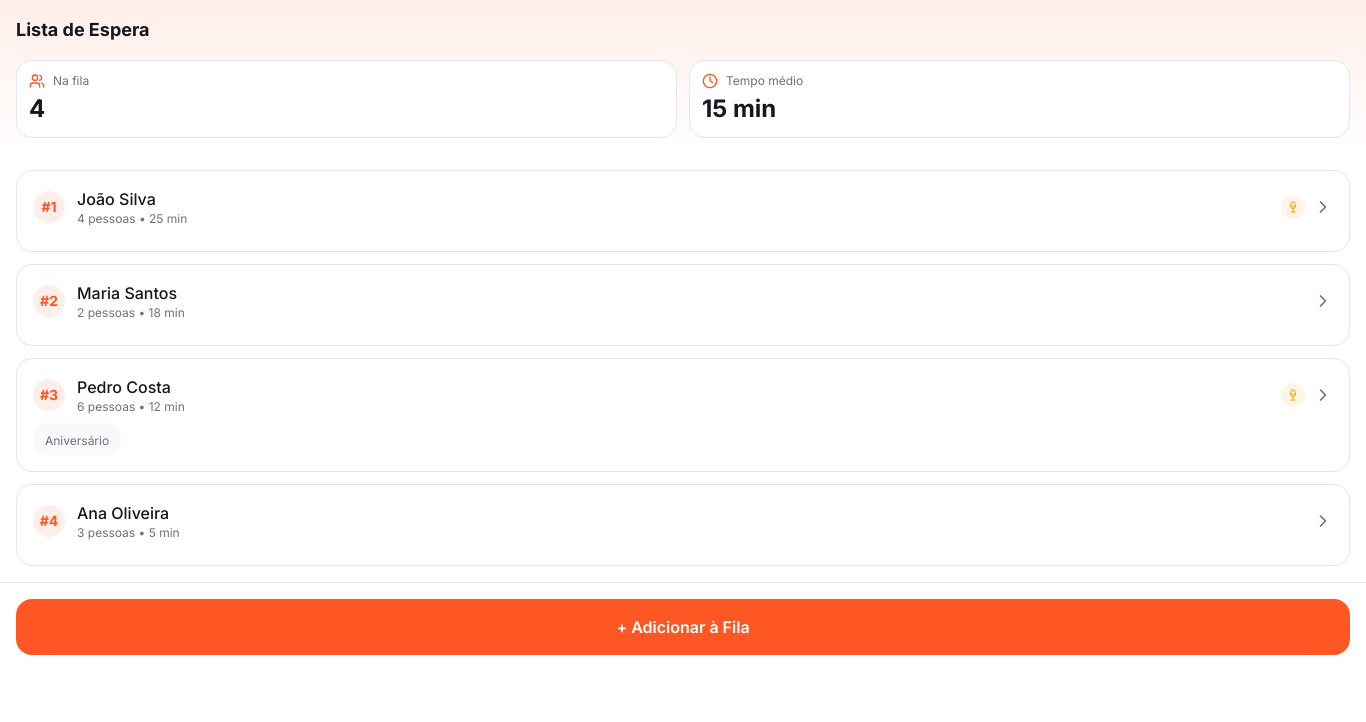
Test: WaitlistManagementScreenV2 › should remove customer from waitlist when remove is clicked
# Click on first customer to expand
Click the button "#1 João Silva 4 pessoas • 25 min": [49, 207] box [17,171,1349,251]
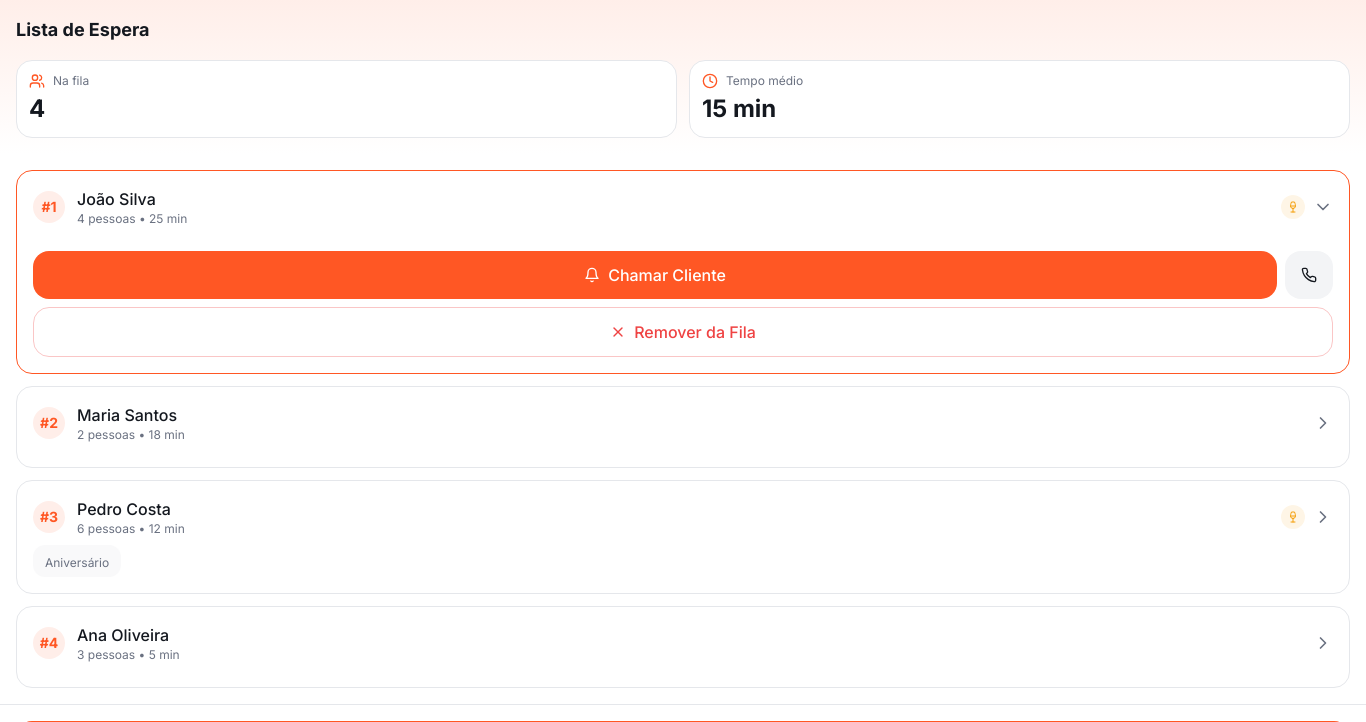
# Click remove
Click the button "Remover da Fila": [683, 332] box [33,307,1333,357]
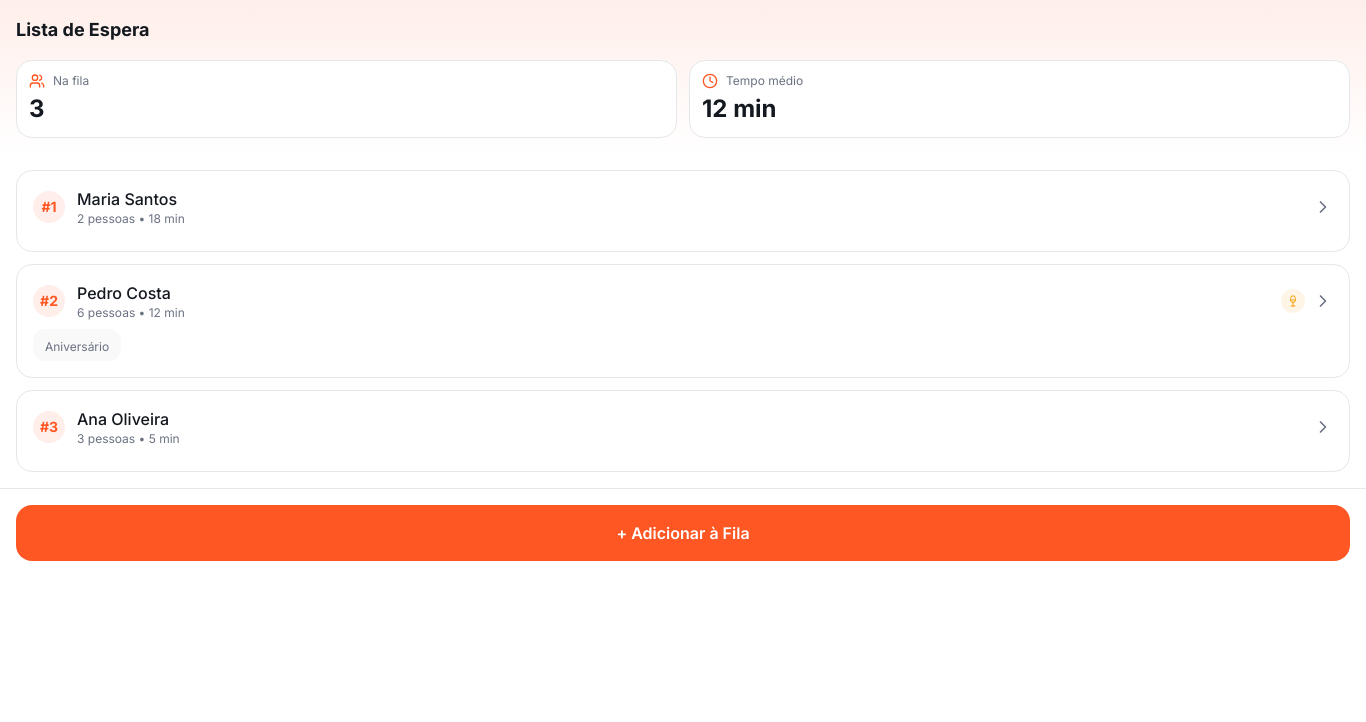
Check: the button "João Silva" is gone
Check: the text "3" is shown, box [29,94,44,123]
